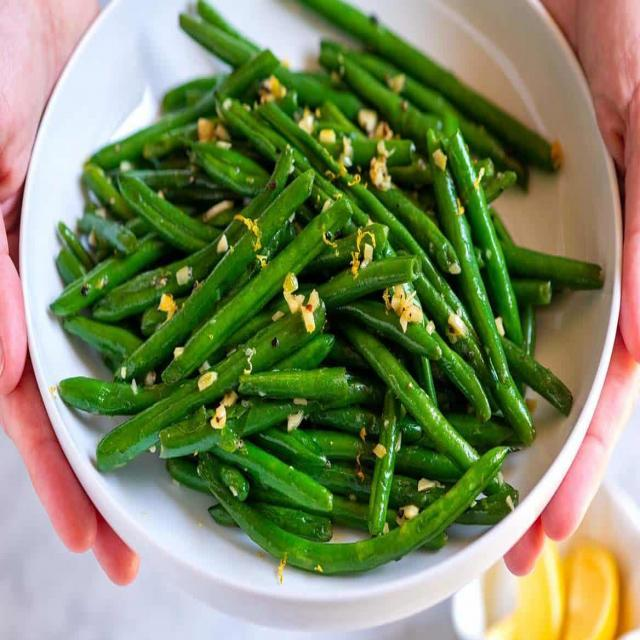Beans: (38, 0, 588, 587)
